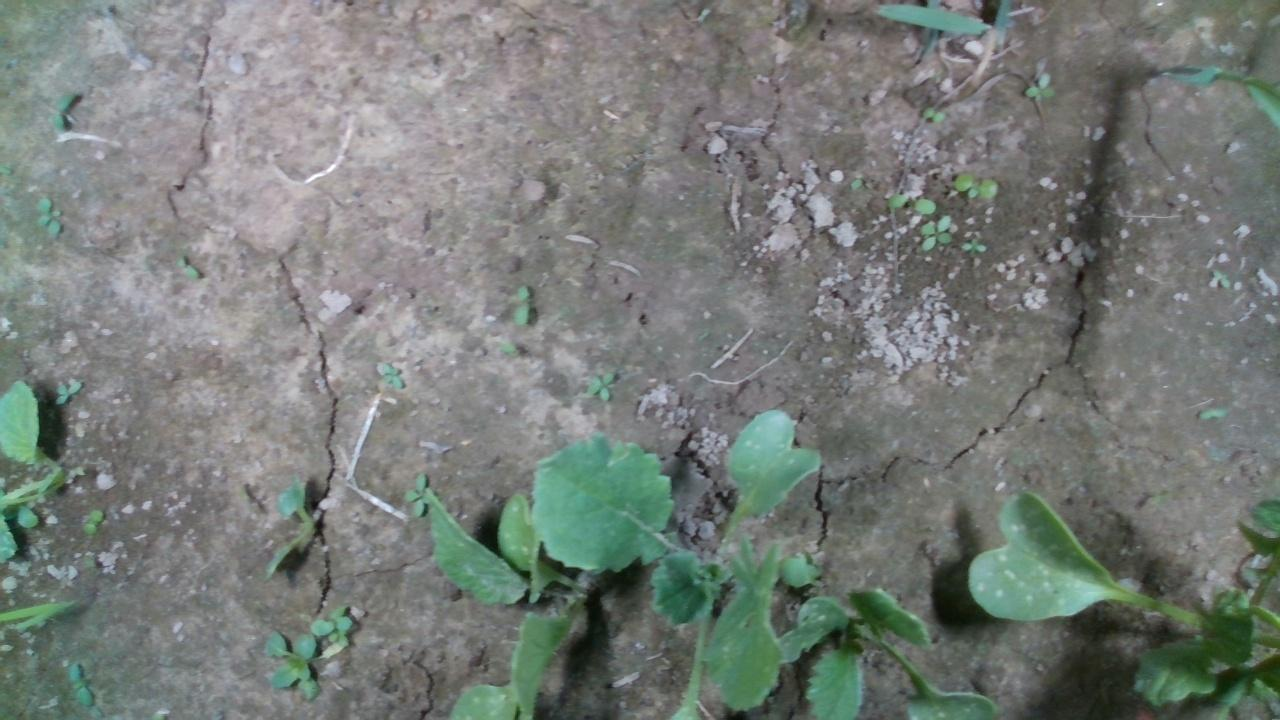weed: (950, 170, 997, 198), (67, 658, 94, 706), (918, 213, 953, 249), (884, 191, 935, 213), (34, 196, 61, 234), (1023, 69, 1055, 101), (50, 90, 75, 130), (583, 370, 615, 401), (512, 281, 529, 325), (379, 360, 404, 389), (959, 234, 986, 258), (82, 507, 103, 535), (176, 254, 199, 278), (920, 105, 946, 125)
